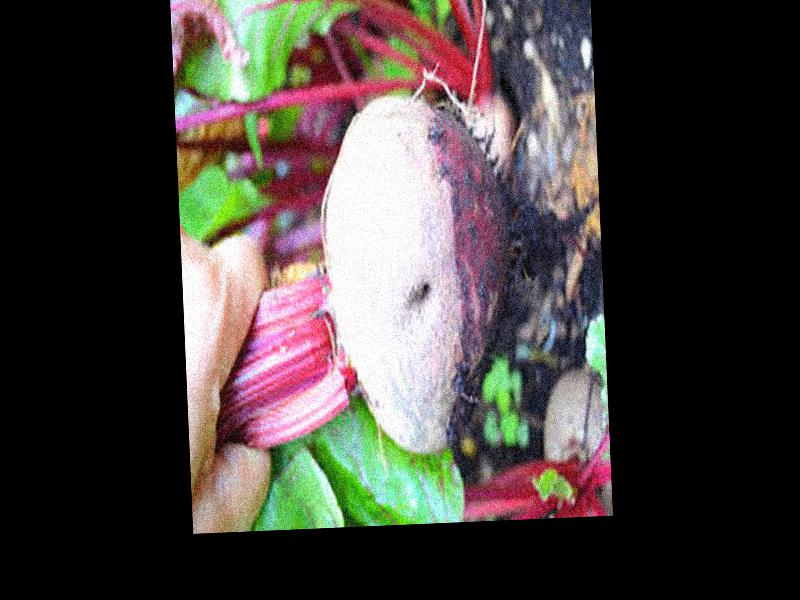Beet: (202, 84, 610, 461)
